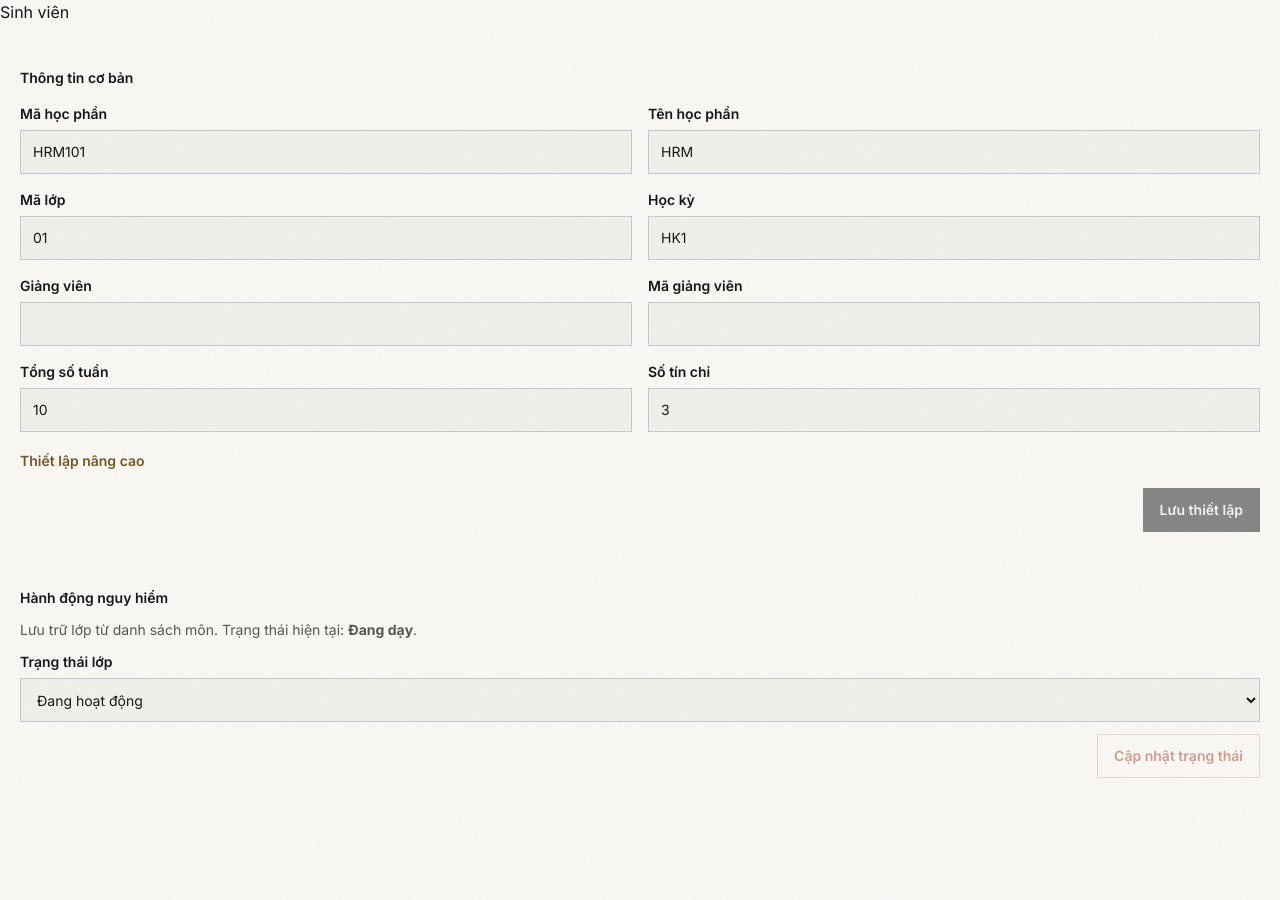
Test case: SettingsForm › guards internal navigation and keeps the form when save fails
Replace the text in the field labelled "Mã lớp" with "02" at coordinates (326, 238), box top-left (20, 216), bottom-right (632, 260)
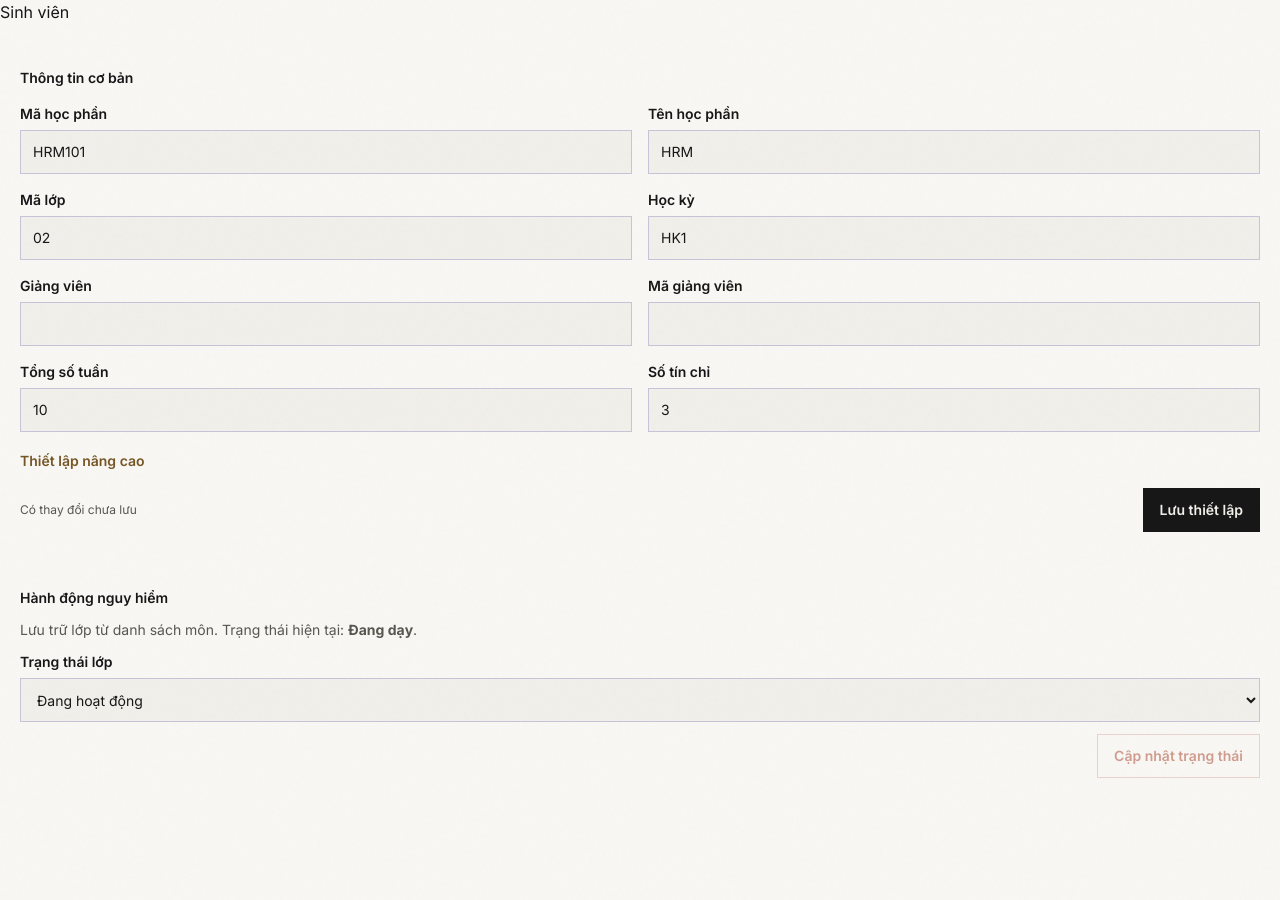
Click the link "Sinh viên" at coordinates (35, 12), box top-left (0, 2), bottom-right (69, 22)
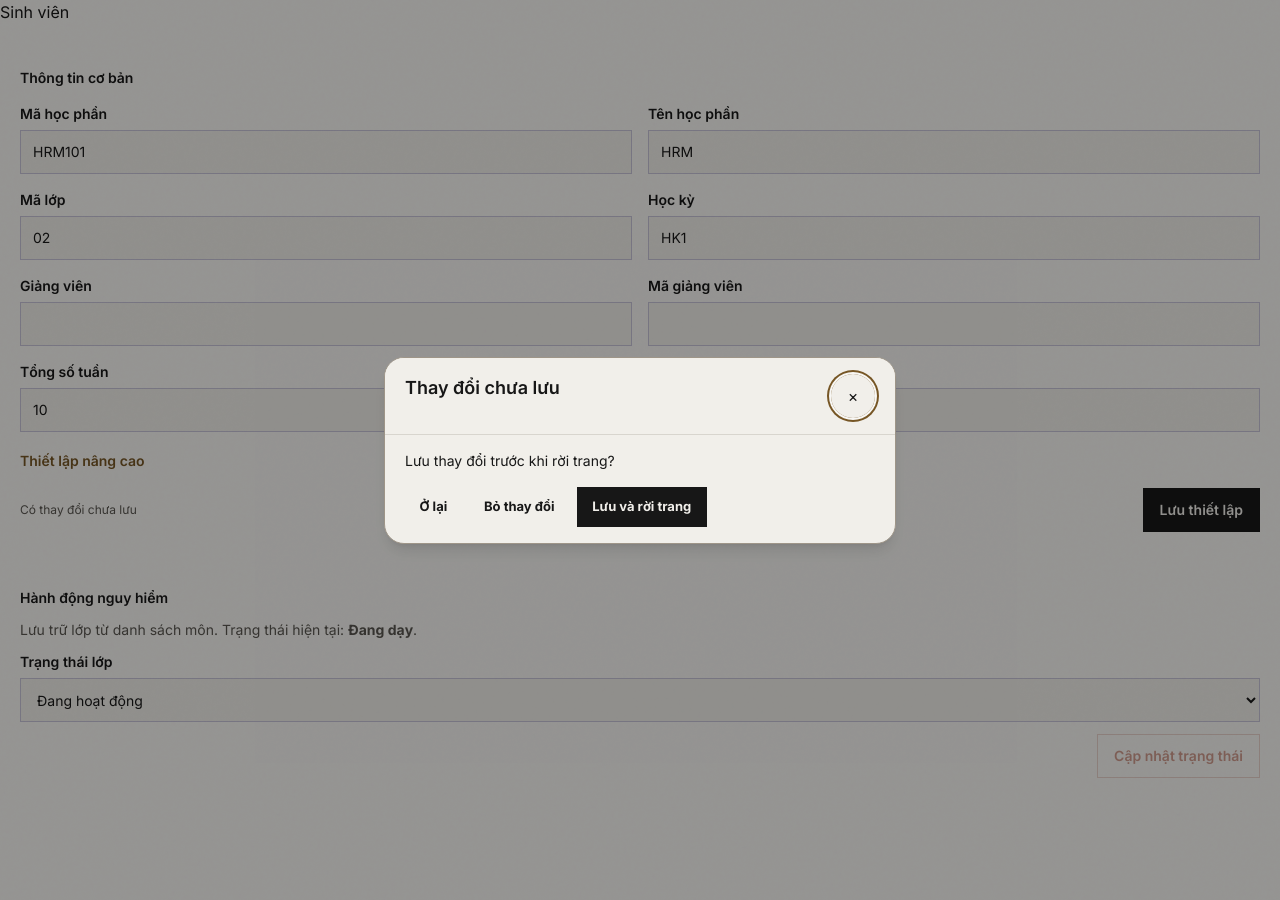
Expected: the button "Ở lại" is shown, top-left (405, 486), bottom-right (462, 526)
Expected: the button "Bỏ thay đổi" is shown, top-left (470, 486), bottom-right (569, 526)
Click the button "Lưu và rời trang" at coordinates (642, 506), box top-left (577, 486), bottom-right (707, 526)
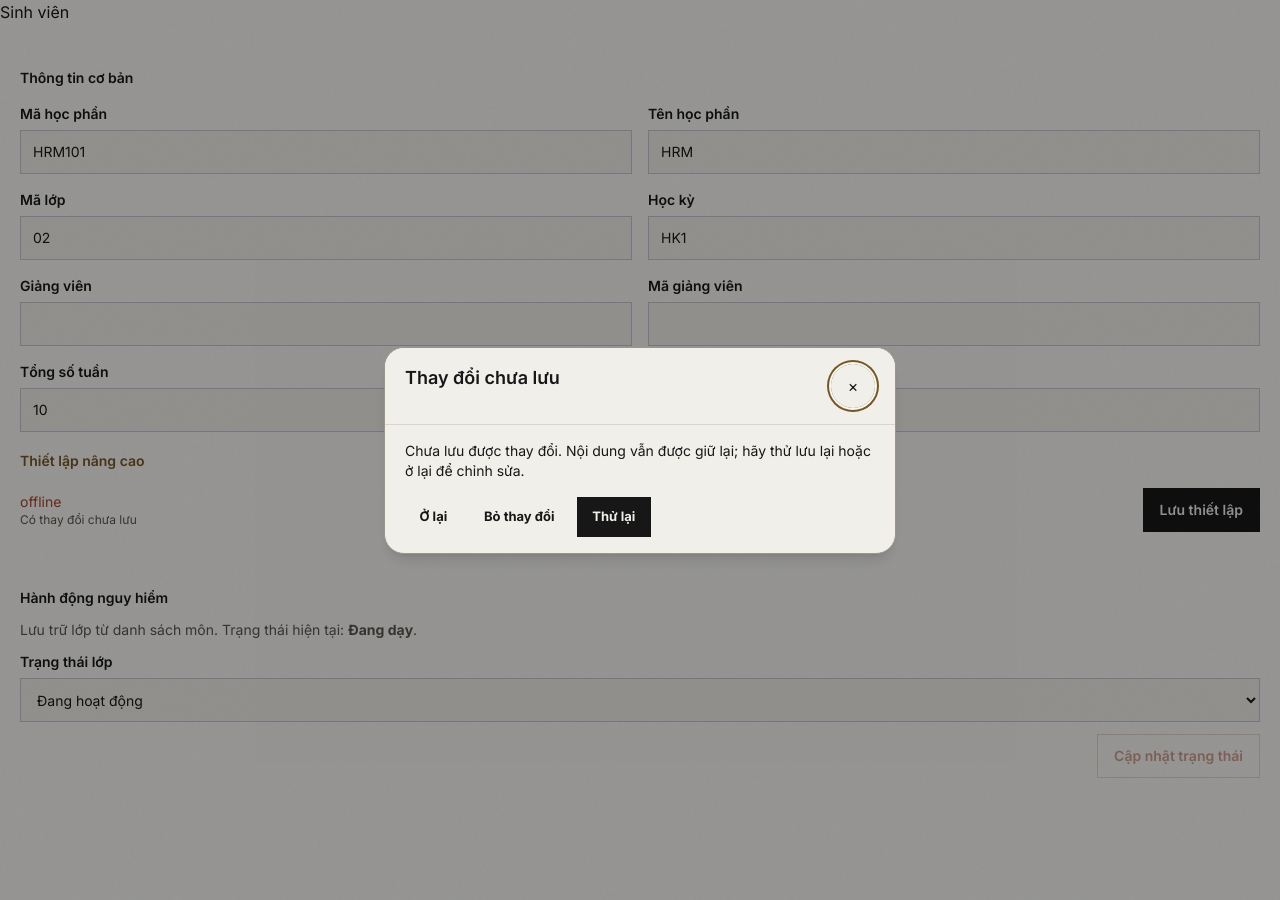
Expected: the button "Thử lại" is shown, top-left (577, 496), bottom-right (651, 536)
